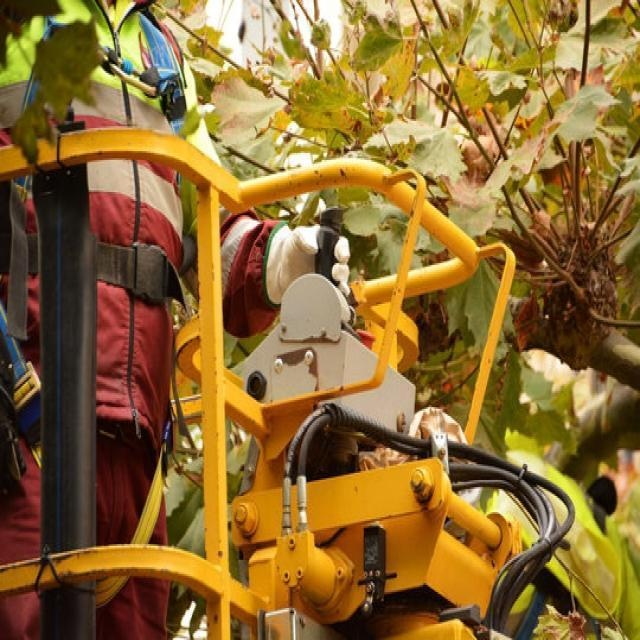Arnes_seguridad: (3, 4, 179, 607)
